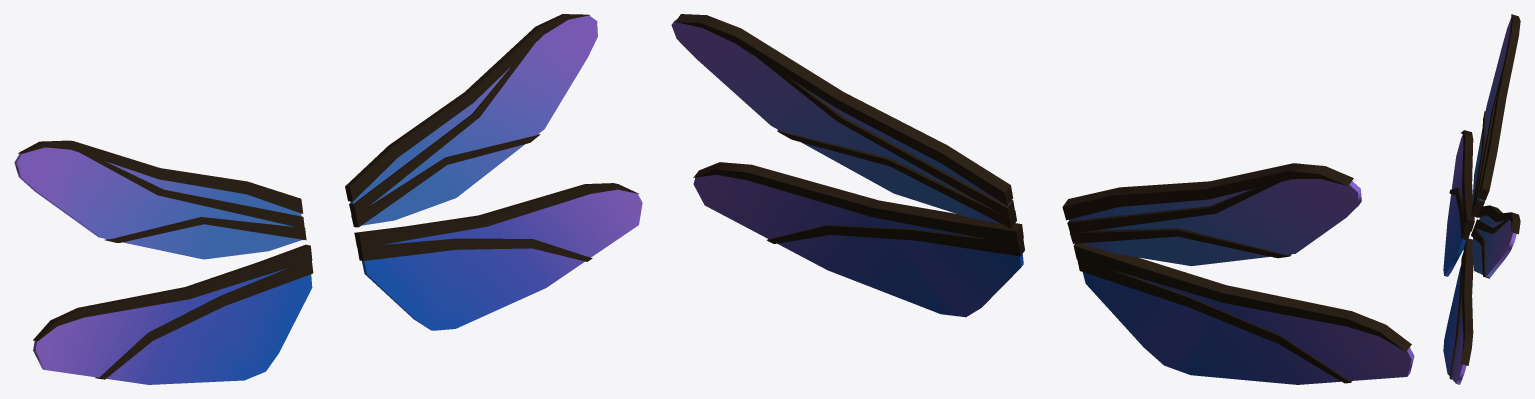
File: hat_premium_DragonflyWings.glb
3 views of the same model, side by side, from view 1: azimuth 30°, elevation 25°; view 2: azimuth 150°, elevation 25°; view 3: azimuth 270°, elevation 25° (orthographic). The views are drawn at different scales.
Visible parts, largest first — view 1: hat_premium_DragonflyWings; view 2: hat_premium_DragonflyWings; view 3: hat_premium_DragonflyWings.
Boxes of the visible parts, x1,y1,x2,y2 form: hat_premium_DragonflyWings: [14, 14, 642, 384]; hat_premium_DragonflyWings: [671, 14, 1414, 384]; hat_premium_DragonflyWings: [1443, 14, 1520, 384].
Bounding box in the file's own units: 0.9036 × 0.349 × 0.1268.
